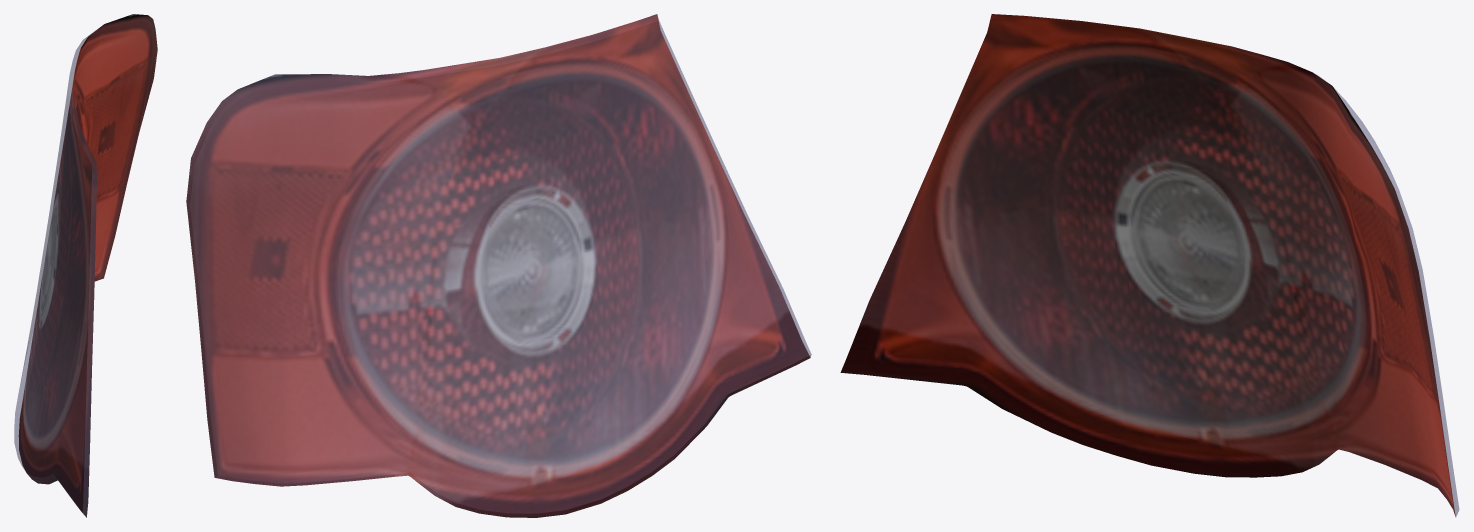
3 views of the same model, side by side, from view 1: azimuth 30°, elevation 25°; view 2: azimuth 150°, elevation 25°; view 3: azimuth 270°, elevation 25° (orthographic). The views are drawn at different scales.
Visible parts, largest first — view 1: X6164_18_541C_L_X6164_18_541C_L_2_N, X6164_18_541C_L_1_DTaSI_X6164_18_541C_L; view 2: X6164_18_541C_L_1_DTaSI_X6164_18_541C_L, X6164_18_541C_L_X6164_18_541C_L_2_N; view 3: X6164_18_541C_L_X6164_18_541C_L_2_N, X6164_18_541C_L_1_DTaSI_X6164_18_541C_L.
Boxes of the visible parts, x1,y1,x2,y2 form: X6164_18_541C_L_X6164_18_541C_L_2_N: [18, 14, 157, 517]; X6164_18_541C_L_1_DTaSI_X6164_18_541C_L: [14, 28, 98, 517]; X6164_18_541C_L_1_DTaSI_X6164_18_541C_L: [186, 14, 811, 517]; X6164_18_541C_L_X6164_18_541C_L_2_N: [186, 14, 810, 517]; X6164_18_541C_L_X6164_18_541C_L_2_N: [840, 14, 1455, 516]; X6164_18_541C_L_1_DTaSI_X6164_18_541C_L: [1314, 73, 1459, 517].
Size of the model in its own units: 19.85 by 23.67 by 27.81.
